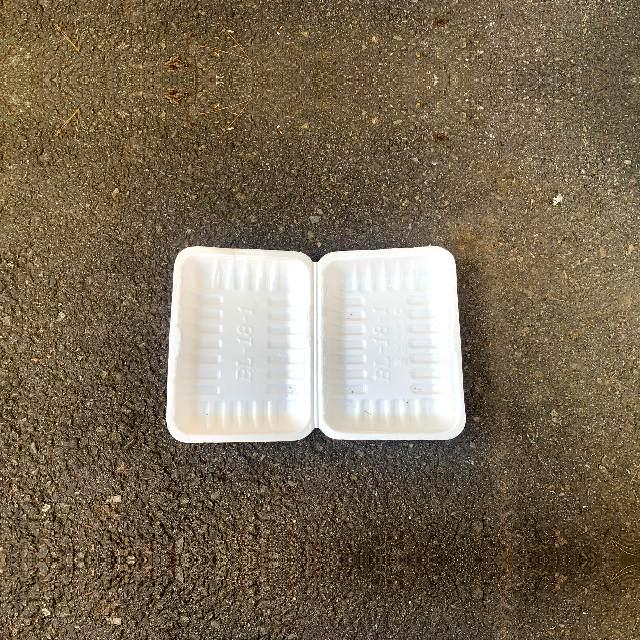Styrofoam: (166, 245, 468, 442), (167, 246, 466, 442)
